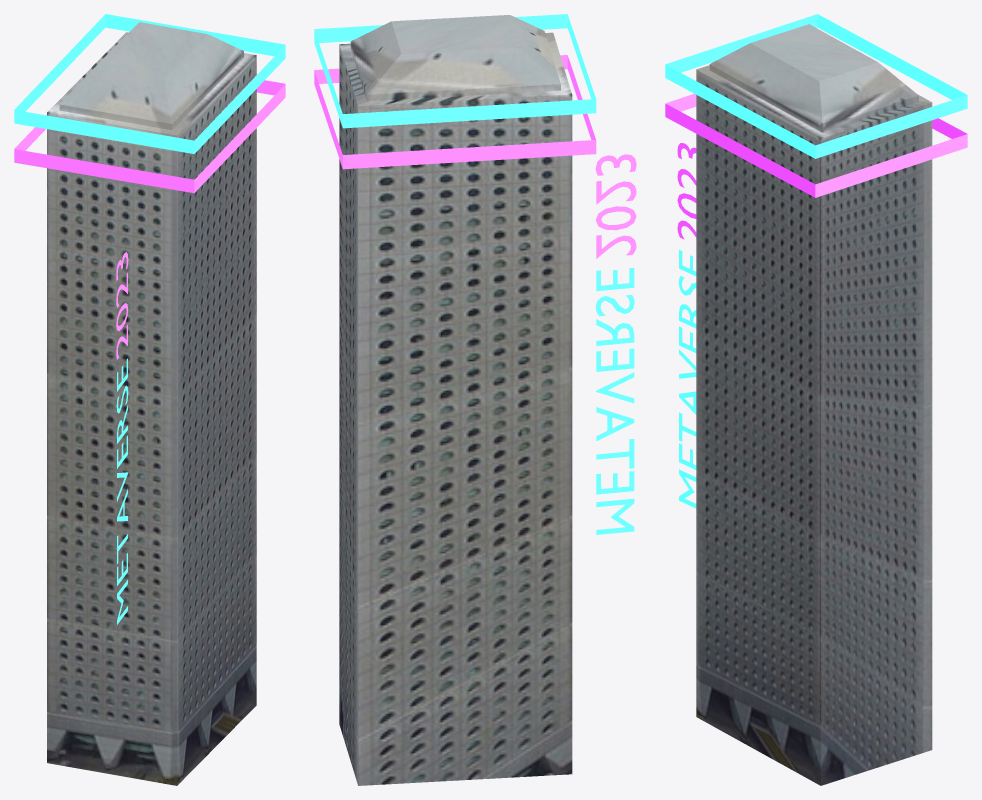
File: bldg_jadineHouse.glb
The picture shows the model from 3 angles, left to right: view 1: azimuth 30°, elevation 25°; view 2: azimuth 150°, elevation 25°; view 3: azimuth 270°, elevation 25°; orthographic projection. The views are drawn at different scales.
Visible parts, largest first — view 1: bldg_jadineHouse, lights_jadineHouse, lights_jadineHouse1a, lights_jadineHouse1b; view 2: bldg_jadineHouse, lights_jadineHouse, lights_jadineHouse1a, lights_jadineHouse1b; view 3: bldg_jadineHouse, lights_jadineHouse, lights_jadineHouse1a, lights_jadineHouse1b.
Part boxes in pixels (<box>): bldg_jadineHouse: <box>47,22,256,785</box>; lights_jadineHouse: <box>14,14,285,193</box>; lights_jadineHouse1a: <box>116,358,128,624</box>; lights_jadineHouse1b: <box>116,252,128,359</box>; bldg_jadineHouse: <box>339,15,572,785</box>; lights_jadineHouse: <box>314,14,596,169</box>; lights_jadineHouse1a: <box>595,268,634,534</box>; lights_jadineHouse1b: <box>595,154,636,258</box>; bldg_jadineHouse: <box>696,24,932,785</box>; lights_jadineHouse: <box>665,14,967,197</box>; lights_jadineHouse1a: <box>678,249,696,508</box>; lights_jadineHouse1b: <box>677,143,696,239</box>.
Size of the model in its own units: 7.23 by 17.47 by 7.04.
3 materials, 1 textured.
